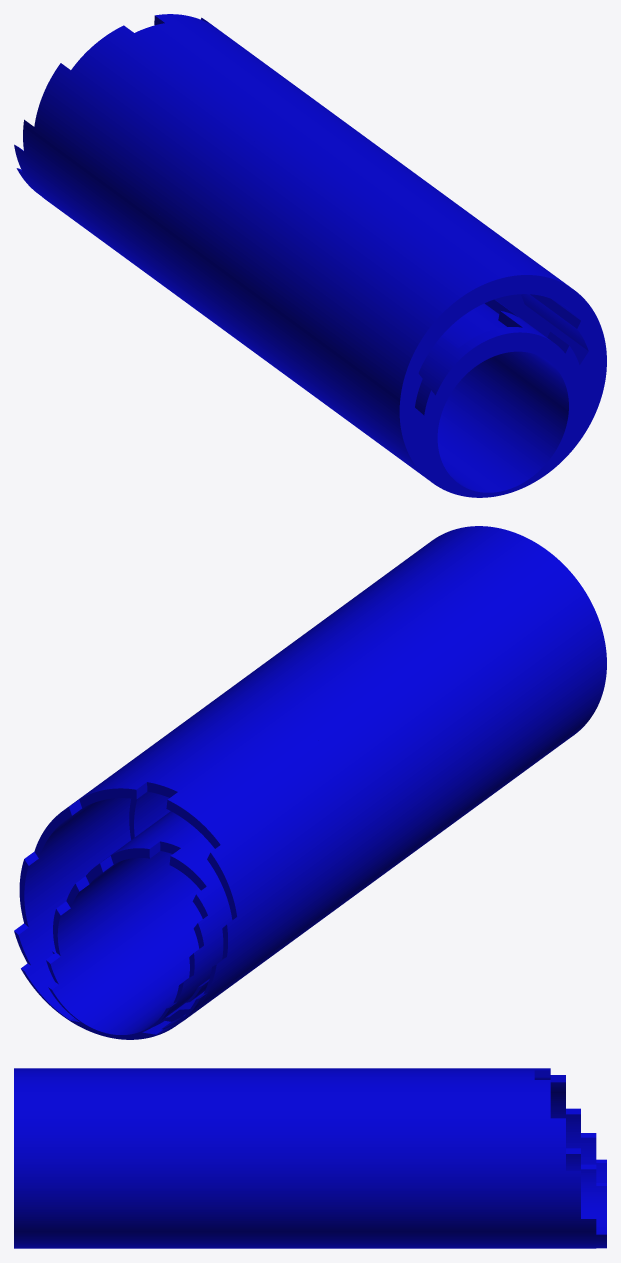
File: fluid1.glb
3 renders of one model, top to bottom at view 1: azimuth 30°, elevation 25°; view 2: azimuth 150°, elevation 25°; view 3: azimuth 270°, elevation 25°, orthographic. The views are drawn at different scales.
Parts seen in each view (by area): view 1: world; view 2: world; view 3: world.
Part boxes in pixels (x1=…): world: x1=14, y1=14, x2=606, y2=497; world: x1=14, y1=526, x2=606, y2=1039; world: x1=14, y1=1068, x2=606, y2=1248.
Size of the model in its own units: 0.2204 by 0.2205 by 0.7249.
